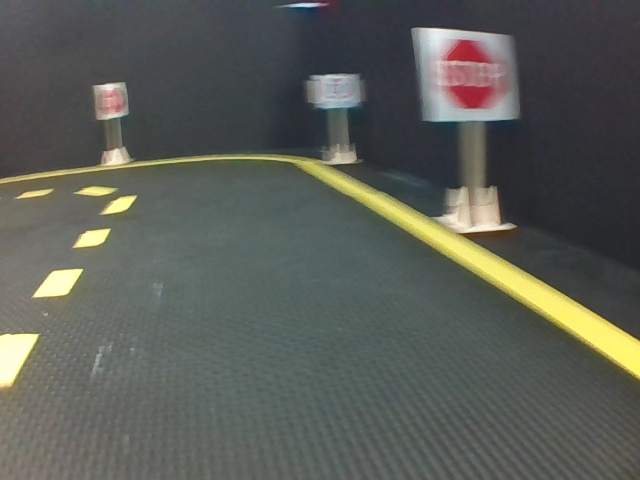30: (319, 75, 356, 105)
stop: (422, 30, 519, 123), (97, 83, 125, 118)
